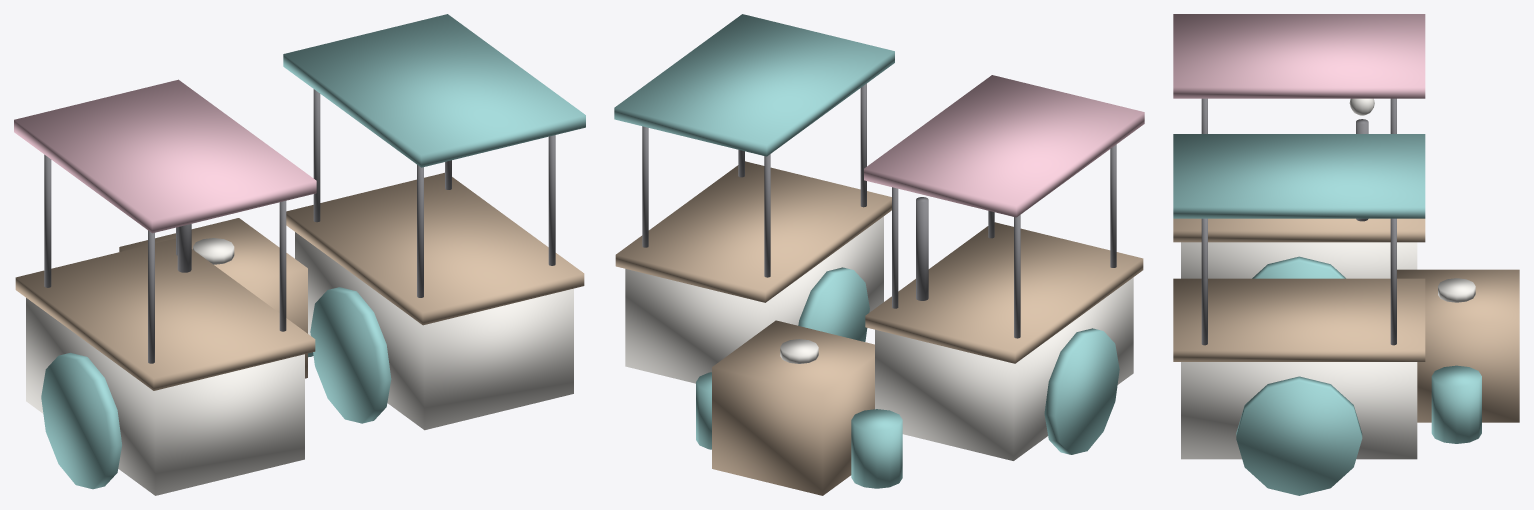
Rendered from food_street_lv2.glb.
3 views of the same model, side by side, from view 1: azimuth 30°, elevation 25°; view 2: azimuth 150°, elevation 25°; view 3: azimuth 270°, elevation 25° (orthographic). The views are drawn at different scales.
Visible parts, largest first — view 1: cart1_canopy, cart2_canopy, cart2_table, cart1_table, cart1_body, cart2_body, cart1_w_l, cart2_w_l, fold_table, cart1_p_fl, cart1_p_rr, cart2_p_rr (+5 smaller); view 2: cart1_canopy, cart2_canopy, fold_table, cart2_table, cart1_table, cart1_body, cart2_body, cart1_w_l, stool1, cart2_w_l, cart1_chimney, stool2 (+7 smaller); view 3: cart1_canopy, cart2_canopy, cart2_table, cart2_body, fold_table, cart2_w_r, cart1_body, cart1_table, stool2, cart1_w_r, cart2_p_fr, cart2_p_rr (+1 smaller).
Boxes of the visible parts, x1,y1,x2,y2 form: cart1_canopy: [14, 79, 316, 233]; cart2_canopy: [283, 14, 585, 167]; cart2_table: [286, 172, 584, 325]; cart1_table: [15, 238, 315, 390]; cart1_body: [26, 298, 304, 495]; cart2_body: [295, 232, 573, 430]; cart1_w_l: [41, 352, 121, 489]; cart2_w_l: [310, 287, 391, 423]; fold_table: [119, 218, 307, 378]; cart1_p_fl: [44, 154, 51, 287]; cart1_p_rr: [279, 201, 286, 331]; cart2_p_rr: [548, 135, 555, 265]; cart1_canopy: [864, 75, 1144, 217]; cart2_canopy: [614, 14, 894, 156]; fold_table: [712, 320, 874, 495]; cart2_table: [615, 161, 891, 302]; cart1_table: [865, 222, 1143, 363]; cart1_body: [875, 277, 1133, 460]; cart2_body: [625, 216, 883, 383]; cart1_w_l: [1044, 328, 1119, 454]; stool1: [851, 409, 902, 488]; cart2_w_l: [798, 267, 869, 341]; cart1_chimney: [916, 197, 928, 300]; stool2: [696, 372, 711, 449]; cart1_canopy: [1173, 14, 1425, 98]; cart2_canopy: [1173, 134, 1425, 218]; cart2_table: [1173, 278, 1425, 361]; cart2_body: [1181, 362, 1417, 459]; fold_table: [1397, 269, 1519, 422]; cart2_w_r: [1236, 376, 1362, 495]; cart1_body: [1181, 242, 1417, 278]; cart1_table: [1173, 218, 1425, 242]; stool2: [1431, 365, 1481, 443]; cart1_w_r: [1252, 256, 1345, 278]; cart2_p_fr: [1390, 218, 1396, 345]; cart2_p_rr: [1201, 218, 1207, 345].
Bounding box in the file's own units: 1.5 × 1 × 1.1.
